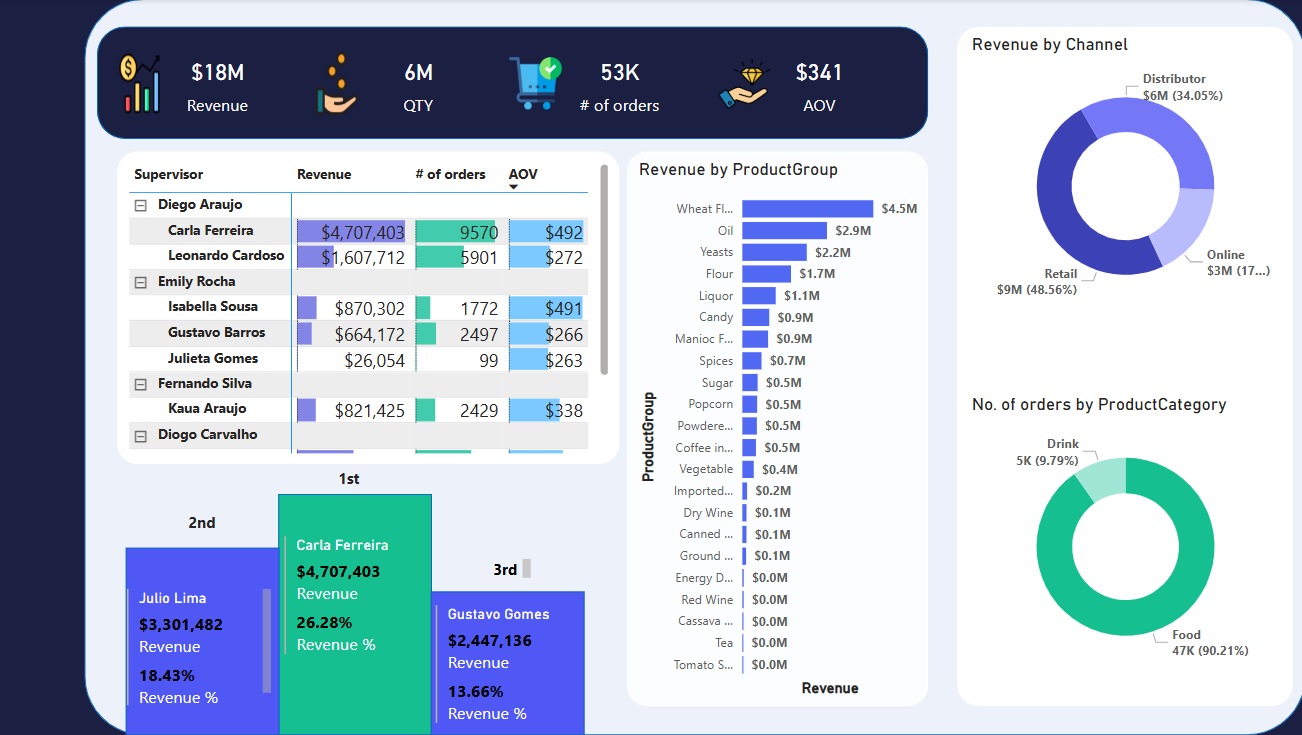

The dashboard page shown, as its layout file describes it:
{"tool":"powerbi","page":{"name":"Overview","canvas":[1280,720],"ordinal":0},"visuals":[{"type":"shape","box":[85.6,0,1194.3,720],"z":0},{"type":"shape","box":[97.8,26.9,812.9,110],"z":1000},{"type":"shape","box":[938.8,26.9,328.8,665],"z":2000},{"type":"card","fields":{"Values":["Calculations.Revenue"]},"box":[163.8,46.5,103.9,72.1],"z":3000},{"type":"card","fields":{"Values":["Calculations.# of orders"]},"box":[556.9,46.6,103,72],"z":4000},{"type":"card","fields":{"Values":["Calculations.AOV"]},"box":[753,46.6,103,72],"z":5000},{"type":"card","fields":{"Values":["Calculations.QTY"]},"box":[360.8,46.6,103,72],"z":6000},{"type":"donutChart","fields":{"Y":["Calculations.Revenue"],"Category":["Actual Sales.Channel"]},"box":[948.6,34.2,310.5,278.7],"z":7000},{"type":"donutChart","title":"No. of orders by ProductCategory","fields":{"Category":["Dim-Products.ProductCategory"],"Y":["Calculations.# of orders"]},"box":[948.6,386.3,310.5,279.9],"z":8000},{"type":"barChart","fields":{"Y":["Calculations.Revenue"],"Category":["Dim-Products.ProductGroup"]},"box":[616.1,149.1,294.6,542.8],"z":9000},{"type":"pivotTable","fields":{"Values":["Calculations.Revenue","Calculations.# of orders","Calculations.AOV"],"Rows":["Dim-Salesperson.Supervisor","Dim-Salesperson.Salesperson"]},"box":[117.4,149.1,491.4,305.6],"z":10000},{"type":"image","box":[114.9,46.5,48.9,72.1],"z":11000},{"type":"image","box":[304.4,46.5,56.2,72.1],"z":12000},{"type":"image","box":[496.3,46.5,61.1,72.1],"z":13000},{"type":"image","box":[699.2,46.5,63.6,72.1],"z":14000},{"type":"shape","box":[275,484.1,150.4,235.9],"z":15000},{"type":"shape","box":[424.2,579.4,150.4,140.6],"z":16000},{"type":"shape","box":[125.9,536.6,150.4,183.4],"z":17000},{"type":"textbox","box":[475.5,542.8,51.3,29.3],"z":18000},{"type":"textbox","box":[317.8,453.5,52.6,30.6],"z":19000},{"type":"textbox","box":[173.6,496.3,53.8,30.6],"z":20000},{"type":"multiRowCard","fields":{"Values":["Dim-Salesperson.Salesperson","Calculations.Revenue","Calculations.Person Revenue %"]},"box":[276.3,520.7,149.1,134.5],"z":21000},{"type":"multiRowCard","fields":{"Values":["Dim-Salesperson.Salesperson","Calculations.Revenue","Calculations.Person Revenue %"]},"box":[424.2,588,150.4,132],"z":22000},{"type":"multiRowCard","fields":{"Values":["Dim-Salesperson.Salesperson","Calculations.Revenue","Calculations.Person Revenue %"]},"box":[122.2,572.1,150.4,123.5],"z":23000}]}

Visuals, with their boxes in screenshot pixels (x1, y1, x2, y2), scaled from the page's 1280x720 canvas onto the 1302x735 screenshot:
shape: (87, 0, 1301, 734)
shape: (99, 27, 926, 140)
shape: (955, 27, 1289, 706)
card - Calculations.Revenue: (167, 47, 272, 121)
card - Calculations.# of orders: (566, 48, 671, 121)
card - Calculations.AOV: (766, 48, 871, 121)
card - Calculations.QTY: (367, 48, 472, 121)
donutChart - Calculations.Revenue x Actual Sales.Channel: (965, 35, 1281, 319)
"No. of orders by ProductCategory" donutChart: (965, 394, 1281, 680)
barChart - Calculations.Revenue x Dim-Products.ProductGroup: (627, 152, 926, 706)
pivotTable - Calculations.Revenue x Calculations.# of orders: (119, 152, 619, 464)
image: (117, 47, 167, 121)
image: (310, 47, 367, 121)
image: (505, 47, 567, 121)
image: (711, 47, 776, 121)
shape: (280, 494, 433, 734)
shape: (431, 591, 584, 734)
shape: (128, 548, 281, 734)
textbox: (484, 554, 536, 584)
textbox: (323, 463, 377, 494)
textbox: (177, 507, 231, 538)
multiRowCard - Dim-Salesperson.Salesperson x Calculations.Revenue: (281, 532, 433, 669)
multiRowCard - Dim-Salesperson.Salesperson x Calculations.Revenue: (431, 600, 584, 734)
multiRowCard - Dim-Salesperson.Salesperson x Calculations.Revenue: (124, 584, 277, 710)
